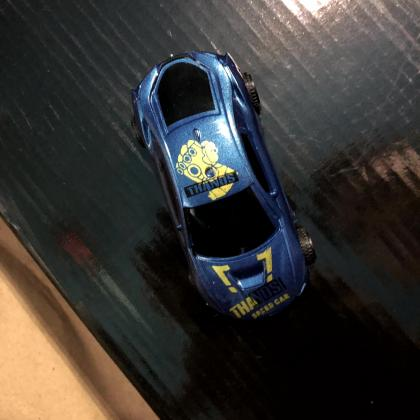Car: (131, 52, 308, 323)
